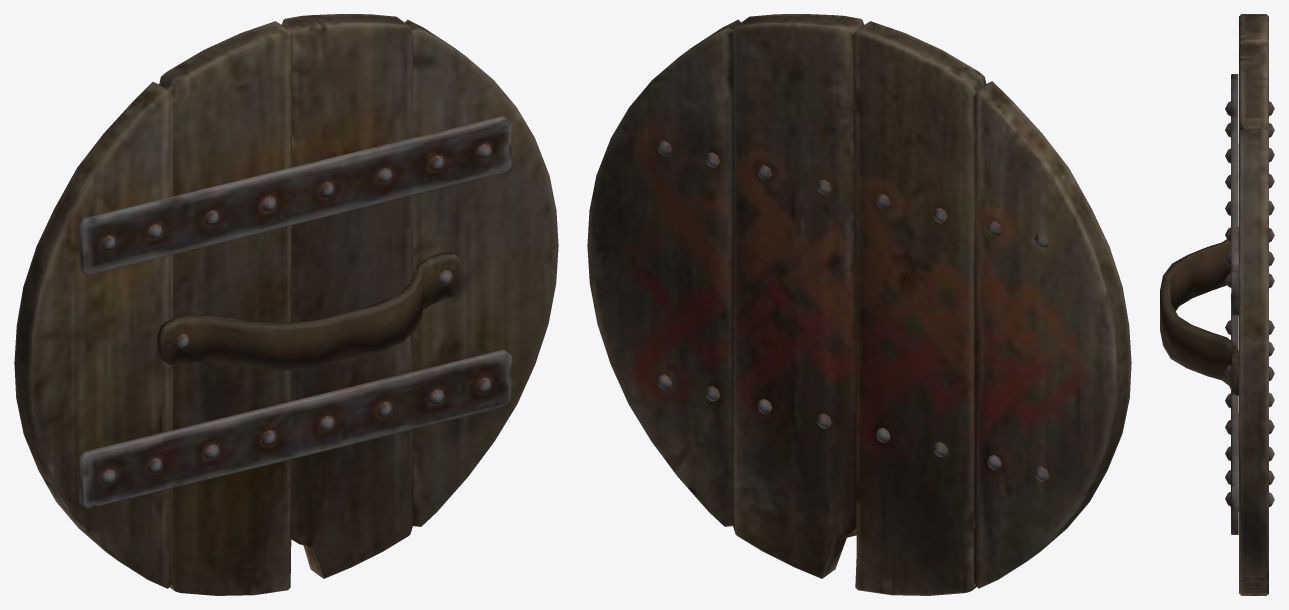
Rendered from weapon-wp_a_2108.glb.
3 views of the same model, side by side, from view 1: azimuth 30°, elevation 25°; view 2: azimuth 150°, elevation 25°; view 3: azimuth 270°, elevation 25° (orthographic). The views are drawn at different scales.
Parts seen in each view (by area): view 1: wp_a_2108_mesh; view 2: wp_a_2108_mesh; view 3: wp_a_2108_mesh.
Boxes of the visible parts, <box> form: wp_a_2108_mesh: <box>14,14,558,595</box>; wp_a_2108_mesh: <box>587,14,1131,595</box>; wp_a_2108_mesh: <box>1160,14,1274,595</box>.
Bounding box in the file's own units: 0.3794 × 0.3829 × 0.0761.
1 material, 1 textured.
